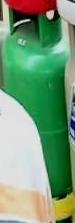cylinder: (1, 0, 75, 223)
